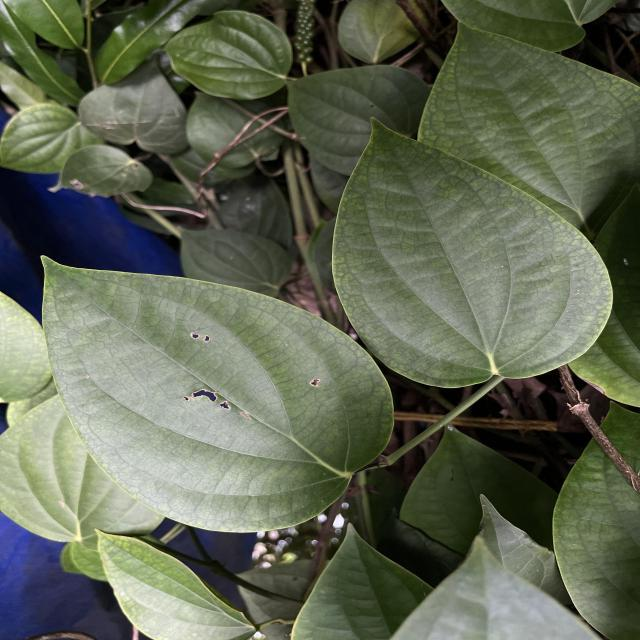Piper nigrum: (19, 252, 398, 536), (328, 113, 616, 393)
